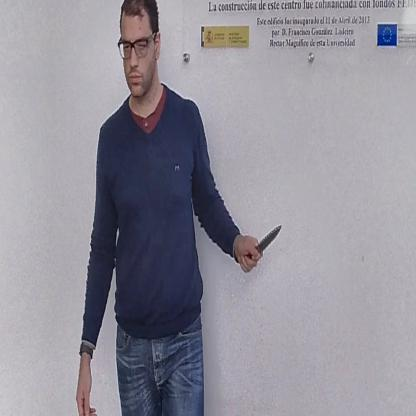knife: (238, 216, 286, 274)
